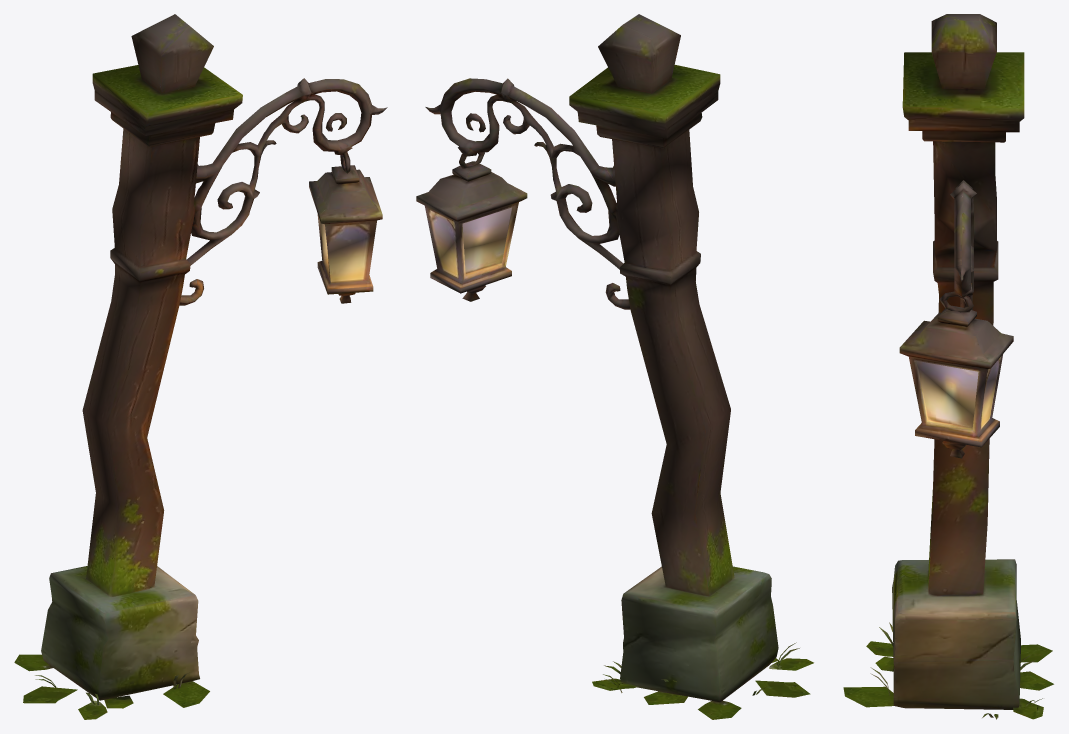
The model's file is town_prop_lamp_post.glb.
The picture shows the model from 3 angles, left to right: view 1: azimuth 30°, elevation 25°; view 2: azimuth 150°, elevation 25°; view 3: azimuth 270°, elevation 25°; orthographic projection. The views are drawn at different scales.
Visible parts, largest first — view 1: tripo_node_e7fe5119-2e9c-44ef-a0e3-2c290a0f3283; view 2: tripo_node_e7fe5119-2e9c-44ef-a0e3-2c290a0f3283; view 3: tripo_node_e7fe5119-2e9c-44ef-a0e3-2c290a0f3283.
Part boxes in pixels (x1,y1,x2,y2): tripo_node_e7fe5119-2e9c-44ef-a0e3-2c290a0f3283: (14, 14, 387, 719); tripo_node_e7fe5119-2e9c-44ef-a0e3-2c290a0f3283: (416, 14, 813, 719); tripo_node_e7fe5119-2e9c-44ef-a0e3-2c290a0f3283: (843, 14, 1053, 719).
Bounding box in the file's own units: 2.07 × 3.4 × 0.9248.
Materials: 1 (1 with a texture image).
